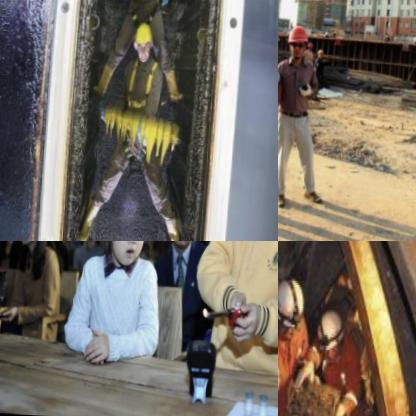head: (102, 241, 160, 268), (77, 241, 102, 249)
helmet: (316, 301, 352, 360), (278, 267, 309, 334), (286, 21, 312, 64), (134, 17, 157, 59)
